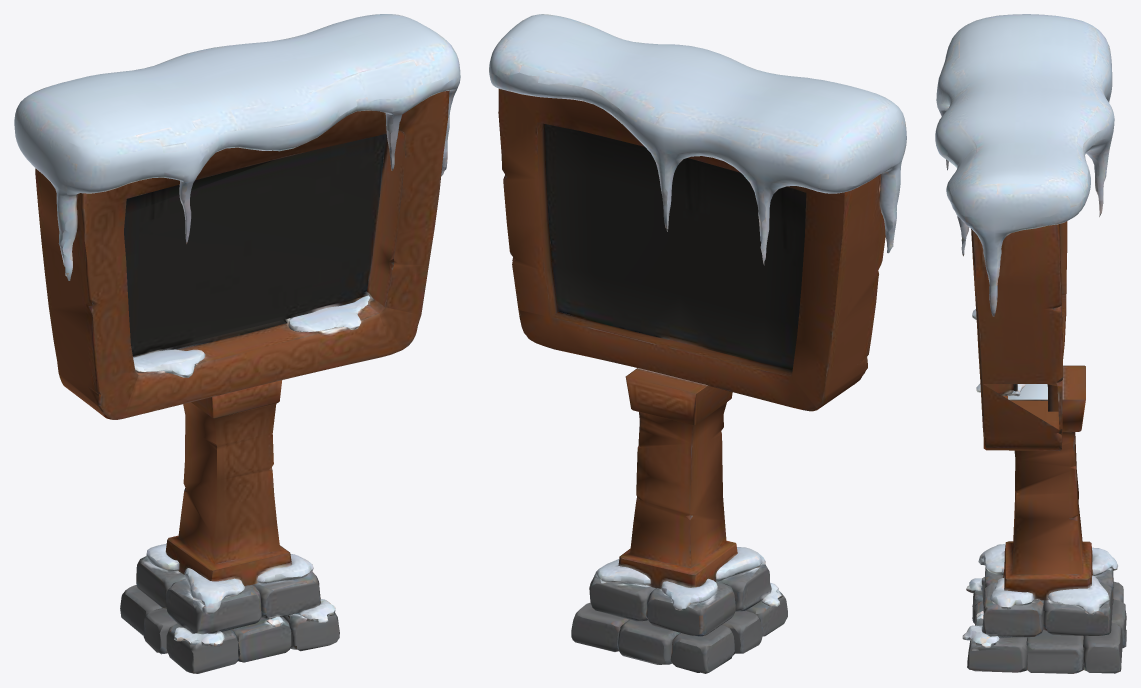
The model's file is tundra_pantalla.glb.
3 views of the same model, side by side, from view 1: azimuth 30°, elevation 25°; view 2: azimuth 150°, elevation 25°; view 3: azimuth 270°, elevation 25° (orthographic). The views are drawn at different scales.
Visible parts, largest first — view 1: tripo_node_09087b8d-5986-4118-8110-ce5761f8d438; view 2: tripo_node_09087b8d-5986-4118-8110-ce5761f8d438; view 3: tripo_node_09087b8d-5986-4118-8110-ce5761f8d438.
Part boxes in pixels (left/top/right/bottom): tripo_node_09087b8d-5986-4118-8110-ce5761f8d438: left=14, top=14, right=460, bottom=673; tripo_node_09087b8d-5986-4118-8110-ce5761f8d438: left=489, top=14, right=906, bottom=673; tripo_node_09087b8d-5986-4118-8110-ce5761f8d438: left=935, top=14, right=1126, bottom=673.
Size of the model in its own units: 0.7231 by 0.9995 by 0.3169.
Materials: 1 (1 with a texture image).
